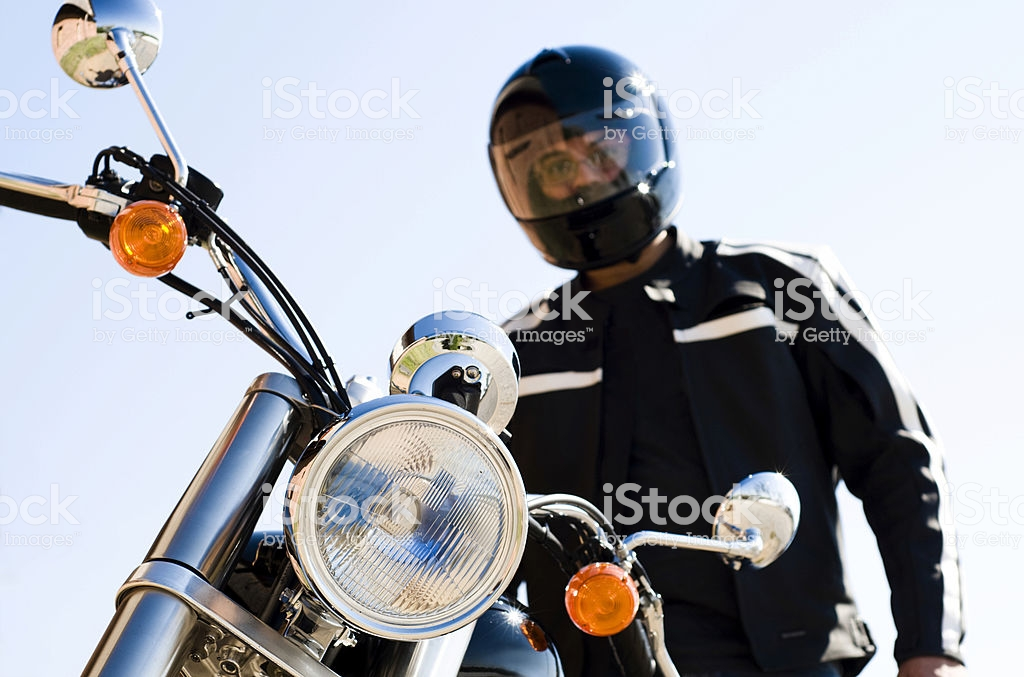helmet: (478, 54, 686, 254)
